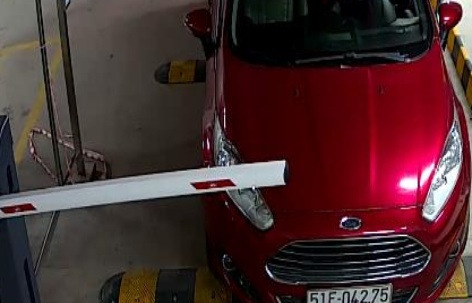plate: (303, 278, 395, 303)
